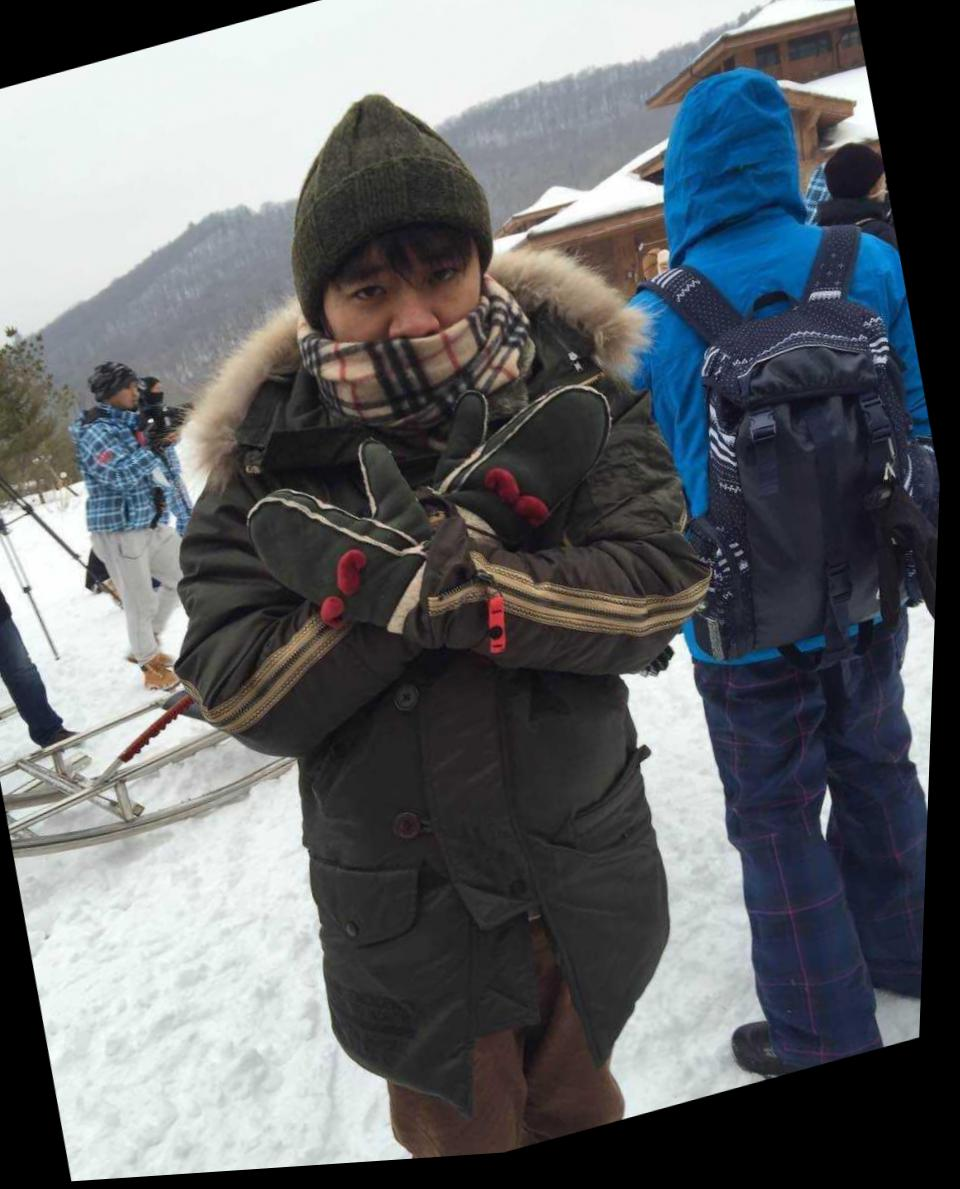NONE: (117, 378, 149, 416)
WRONG: (322, 223, 514, 418)
